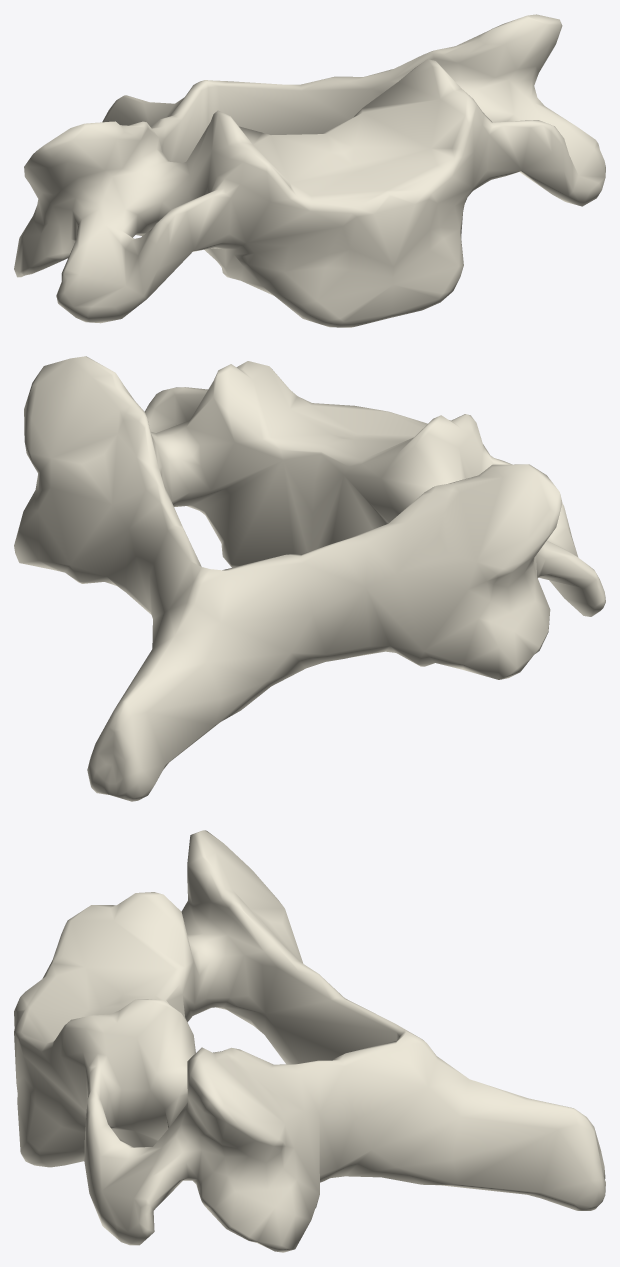
The picture shows the model from 3 angles, top to bottom: view 1: azimuth 30°, elevation 25°; view 2: azimuth 150°, elevation 25°; view 3: azimuth 270°, elevation 25°; orthographic projection. The views are drawn at different scales.
Parts seen in each view (by area): view 1: ZA_bff9085efefcb3fb; view 2: ZA_bff9085efefcb3fb; view 3: ZA_bff9085efefcb3fb.
Boxes of the visible parts, x1,y1,x2,y2 form: ZA_bff9085efefcb3fb: (14,14,605,327); ZA_bff9085efefcb3fb: (14,356,605,801); ZA_bff9085efefcb3fb: (14,830,605,1252).
Size of the model in its own units: 0.058 by 0.025 by 0.0524.
